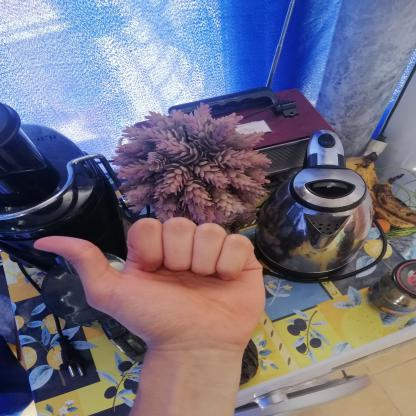DAD: (21, 207, 275, 356)
